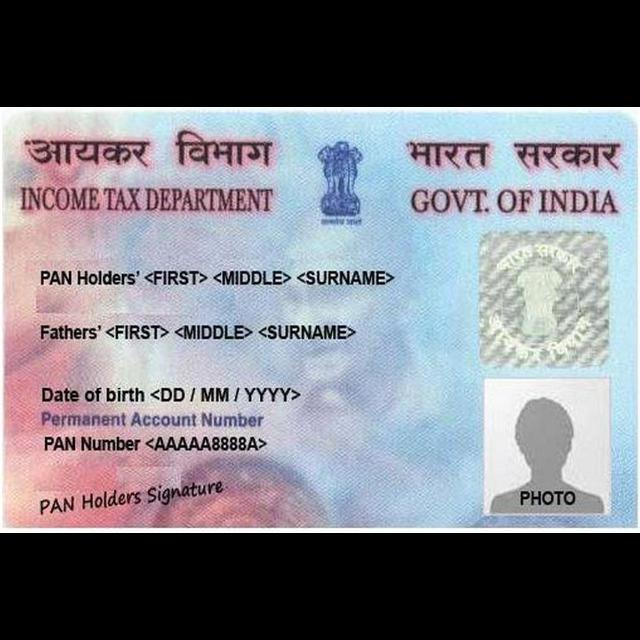pan: (0, 107, 640, 533)
